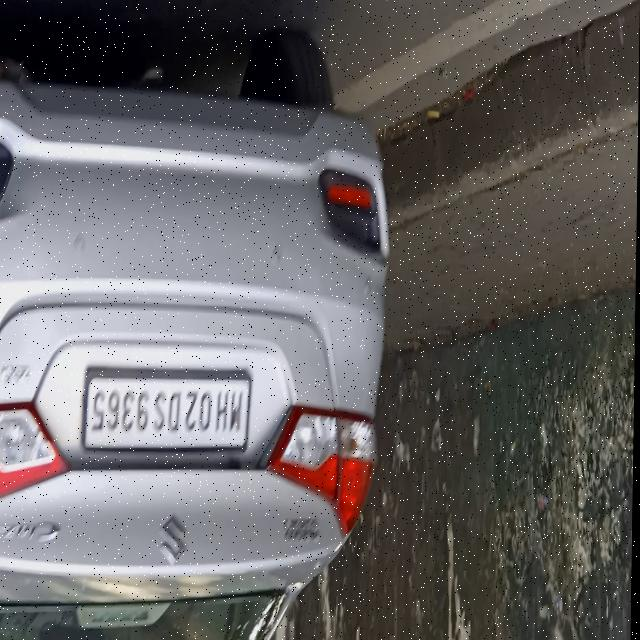plate: (78, 362, 257, 464)
